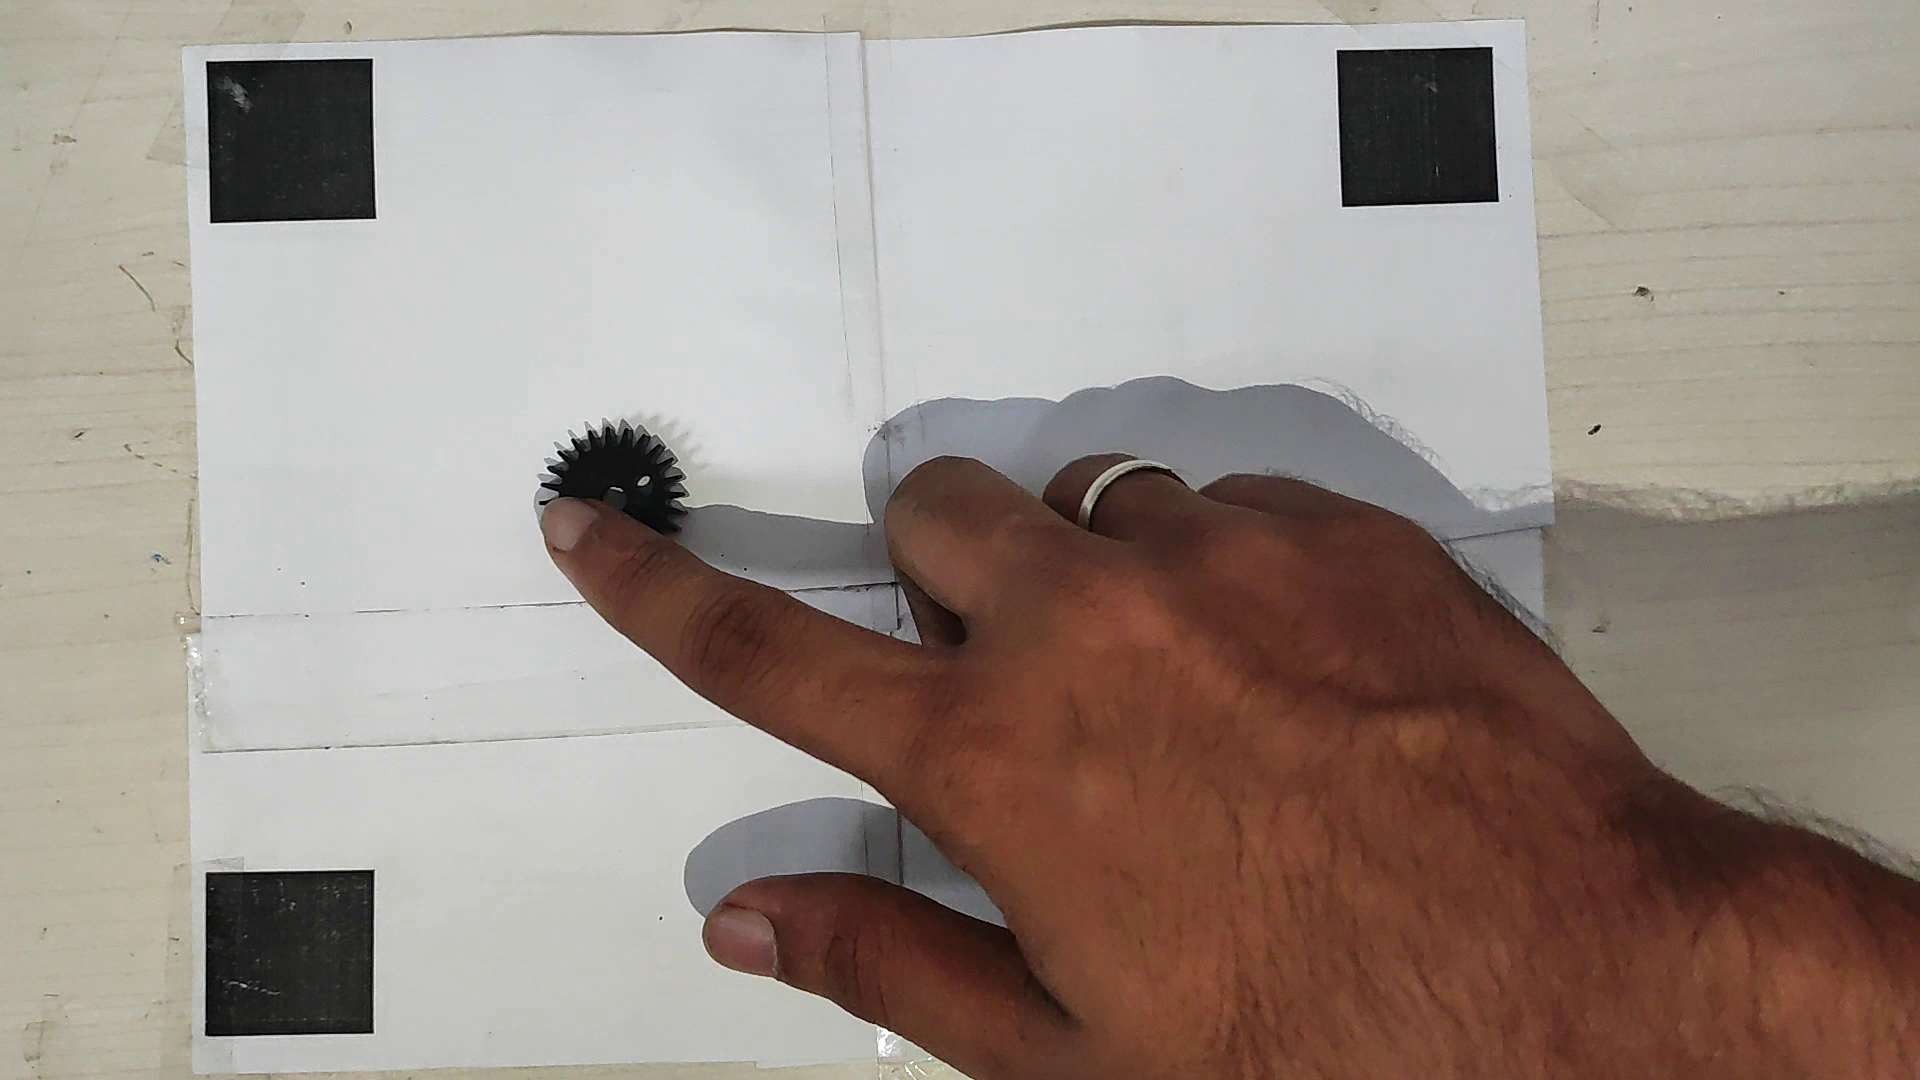Gear: (530, 418, 696, 578)
